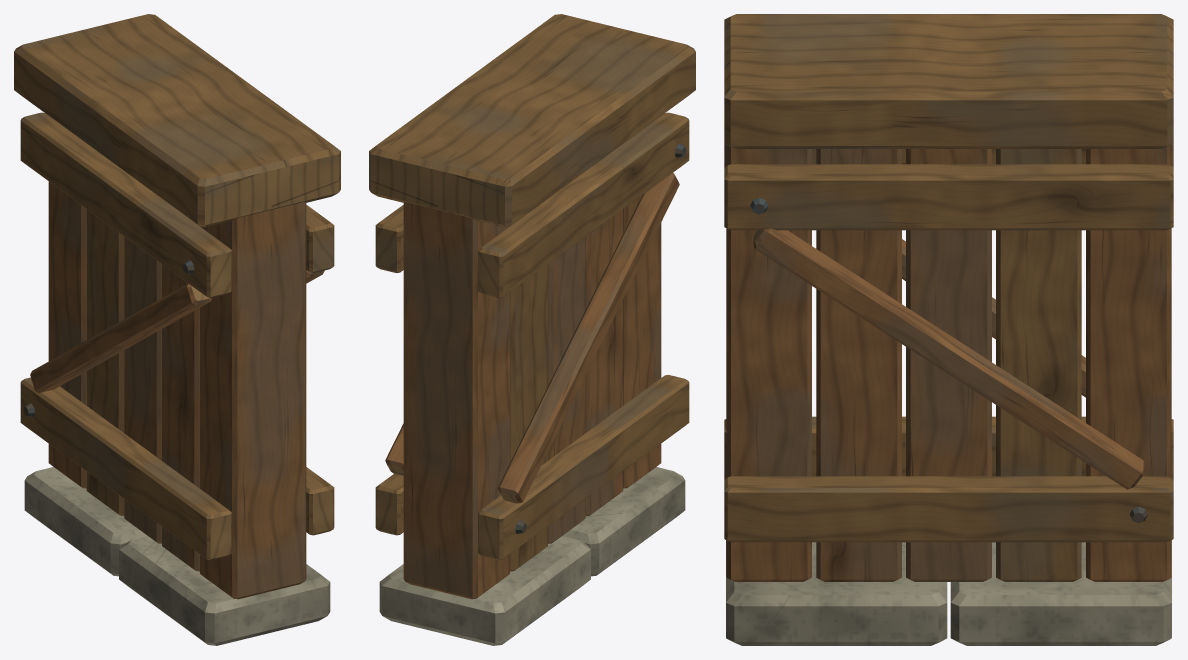
Rendered from b03_wall_128.fbx.
3 renders of one model, left to right at view 1: azimuth 30°, elevation 25°; view 2: azimuth 150°, elevation 25°; view 3: azimuth 270°, elevation 25°, orthographic. The views are drawn at different scales.
Parts seen in each view (by area): view 1: b03_wall_128; view 2: b03_wall_128; view 3: b03_wall_128.
Part boxes in pixels (left/top/right/bottom): b03_wall_128: left=14, top=14, right=340, bottom=645; b03_wall_128: left=369, top=14, right=695, bottom=645; b03_wall_128: left=724, top=14, right=1173, bottom=645.
Bounding box in the file's own units: 5610 × 12800 × 17600.
